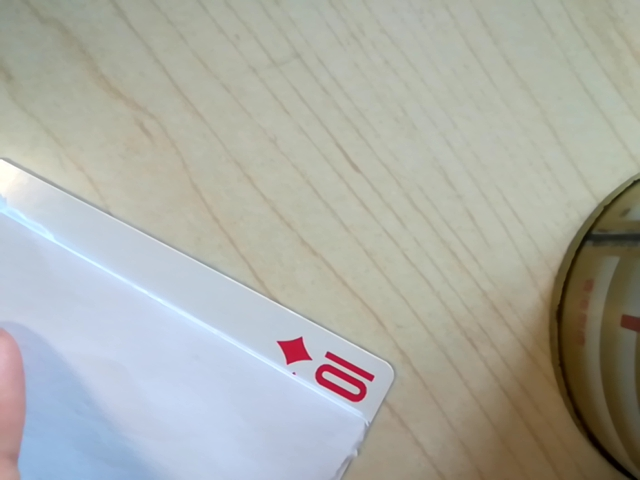fk 10: (276, 333, 389, 413)
